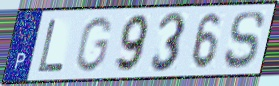3: (149, 10, 188, 74)
6: (190, 11, 223, 71)
9: (113, 12, 150, 75)
G: (72, 15, 115, 75)
L: (35, 18, 66, 74)
S: (223, 9, 266, 71)
